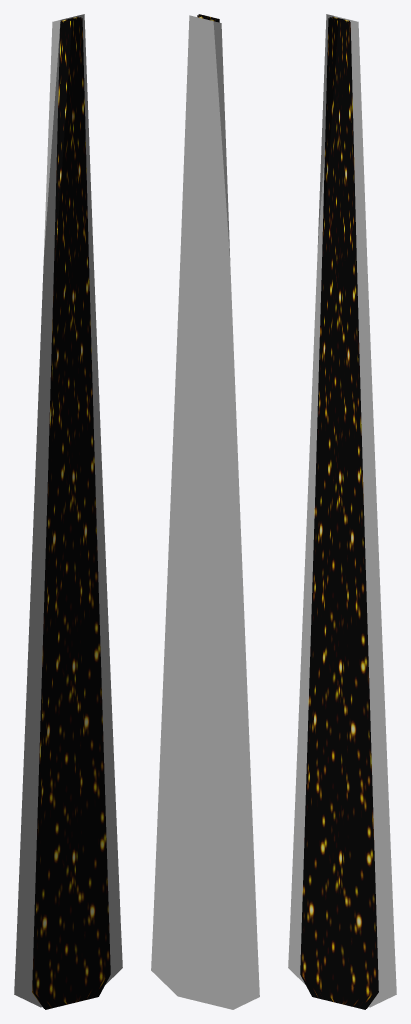
Rendered from stg400_MotTractorchain_23.obj.
3 views of the same model, side by side, from view 1: azimuth 30°, elevation 25°; view 2: azimuth 150°, elevation 25°; view 3: azimuth 330°, elevation 25° (orthographic).
Parts seen in each view (by area): view 1: polygon1, polygon2; view 2: polygon2; view 3: polygon1, polygon2.
Part boxes in pixels (x1,y1,x2,y2): polygon1: (32, 17, 110, 1009); polygon2: (14, 14, 122, 1007); polygon2: (151, 15, 259, 1009); polygon1: (300, 17, 378, 1009); polygon2: (288, 14, 396, 1007).
Bounding box in the file's own units: 653 × 5643 × 38.16.
